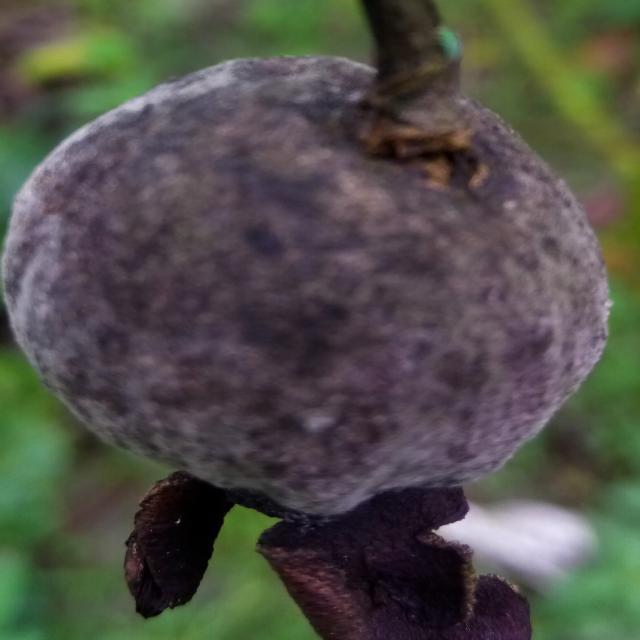Phytopthora: (3, 0, 608, 640)
